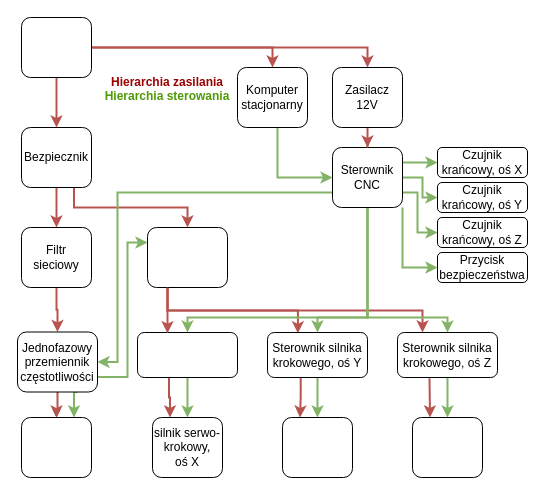
This 545x495 diagram has some shape labels left out. The box of each missing label's shape, as (x1, y1, x2, y2) in pixels:
silnik serwo-krokowy, oś Y: (282, 416, 352, 478)
silnik serwo-krokowy, oś Z: (412, 416, 482, 478)
Sterownik silnika krokowego, oś X: (136, 332, 238, 378)
Transformator teroidalny 230v/48v: (146, 226, 228, 288)
Wrzeciono: (20, 416, 92, 478)
Zasilanie 230V: (20, 16, 92, 78)
